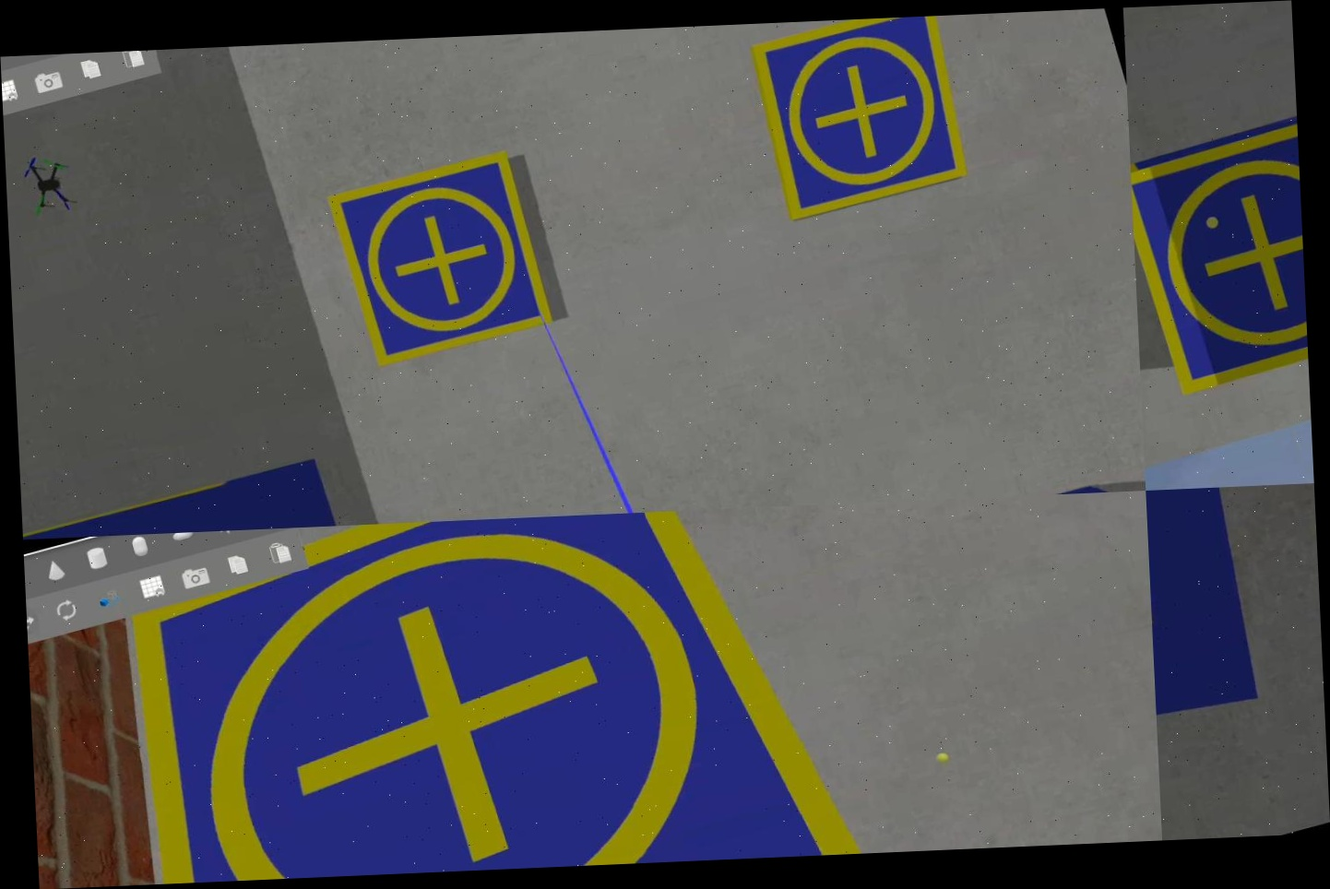large_base: (1146, 483, 1321, 821), (19, 446, 407, 539)
small_base: (27, 502, 903, 888), (324, 145, 562, 376), (742, 14, 987, 228), (1128, 113, 1309, 401)
